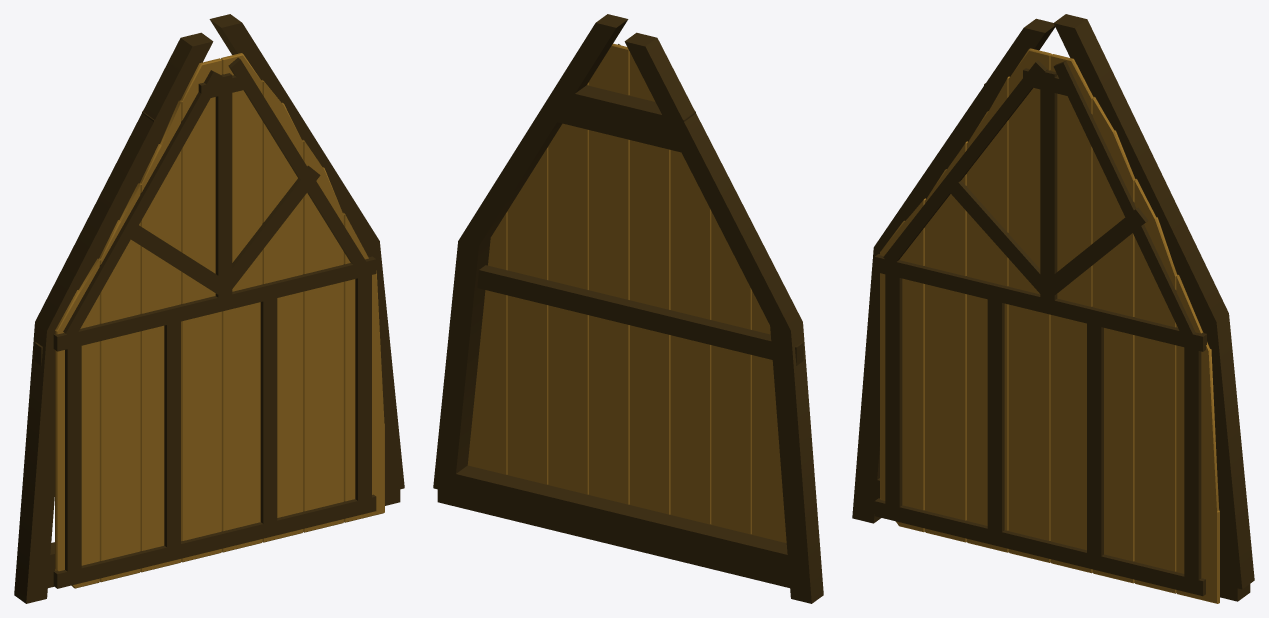
Rendered from zid_krov_sredina.FBX.
3 renders of one model, left to right at view 1: azimuth 30°, elevation 25°; view 2: azimuth 150°, elevation 25°; view 3: azimuth 330°, elevation 25°, orthographic. The views are drawn at different scales.
Visible parts, largest first — view 1: zid_tarabe_prazno012, zid_krovni_srednji, Zid_konstrukcija_prazno012; view 2: zid_tarabe_prazno012, Zid_konstrukcija_prazno012; view 3: zid_tarabe_prazno012, zid_krovni_srednji, Zid_konstrukcija_prazno012.
Boxes of the visible parts, <box> form: zid_tarabe_prazno012: <box>55,53,384,588</box>; zid_krovni_srednji: <box>53,57,376,588</box>; Zid_konstrukcija_prazno012: <box>14,14,404,603</box>; zid_tarabe_prazno012: <box>467,43,786,542</box>; Zid_konstrukcija_prazno012: <box>433,14,823,603</box>; zid_tarabe_prazno012: <box>880,48,1219,603</box>; zid_krovni_srednji: <box>874,60,1206,596</box>; Zid_konstrukcija_prazno012: <box>852,14,1254,601</box>.
Size of the model in its own units: 182 by 242 by 13.95.
